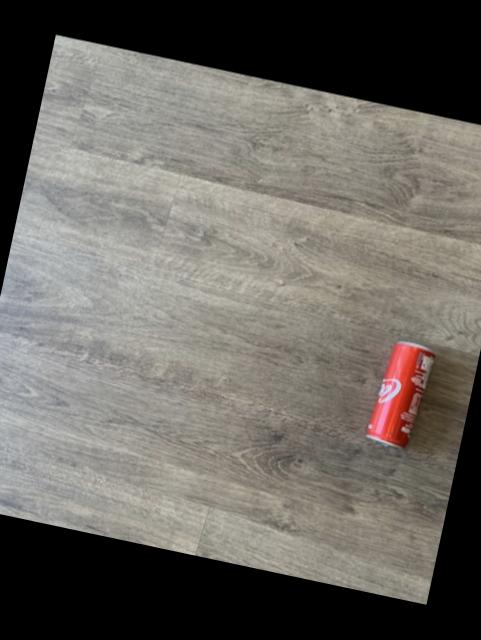metal: (368, 340, 435, 447)
